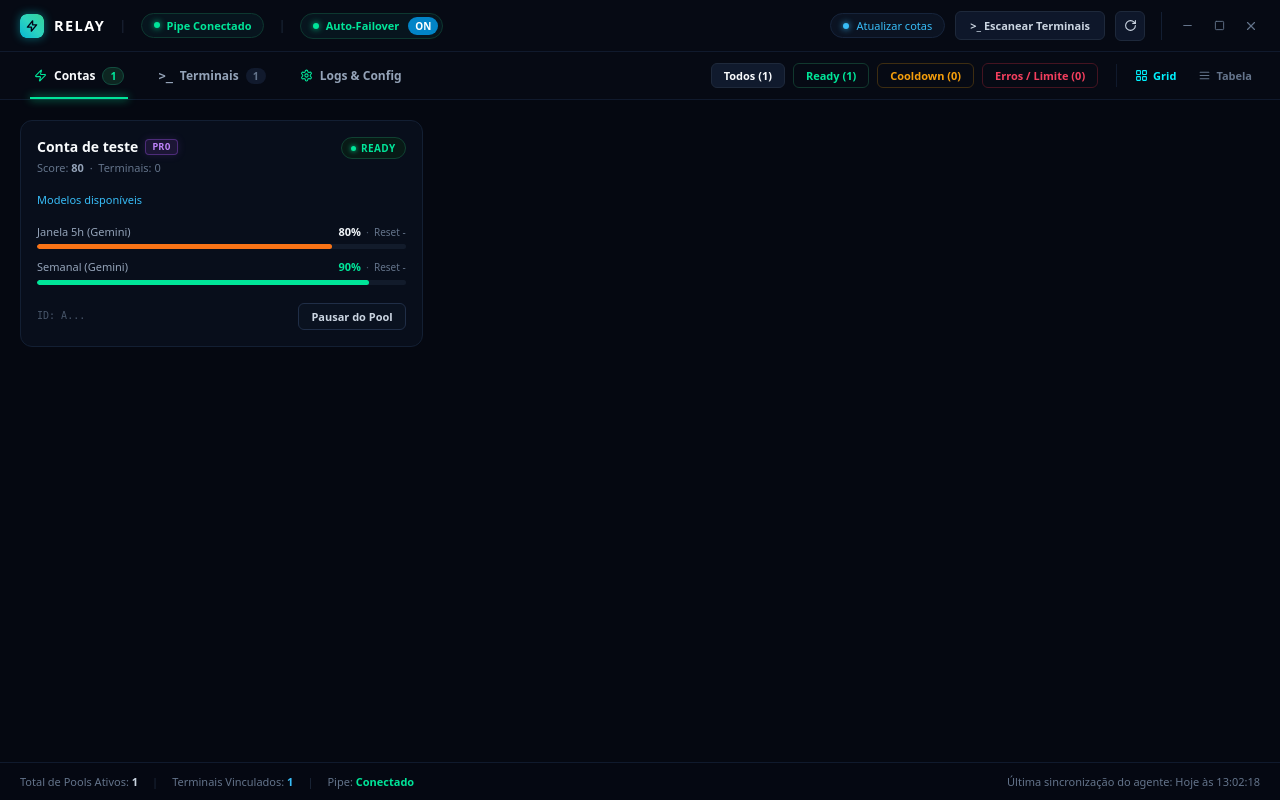
Test: carrega dados do Electron, navega, atualiza e libera inscrições ao sair
Expected: the text "Conta de teste" is shown, [37,137,138,157]
Click the button ">_ Escanear Terminais" at (1030, 26), box [955,11,1105,40]
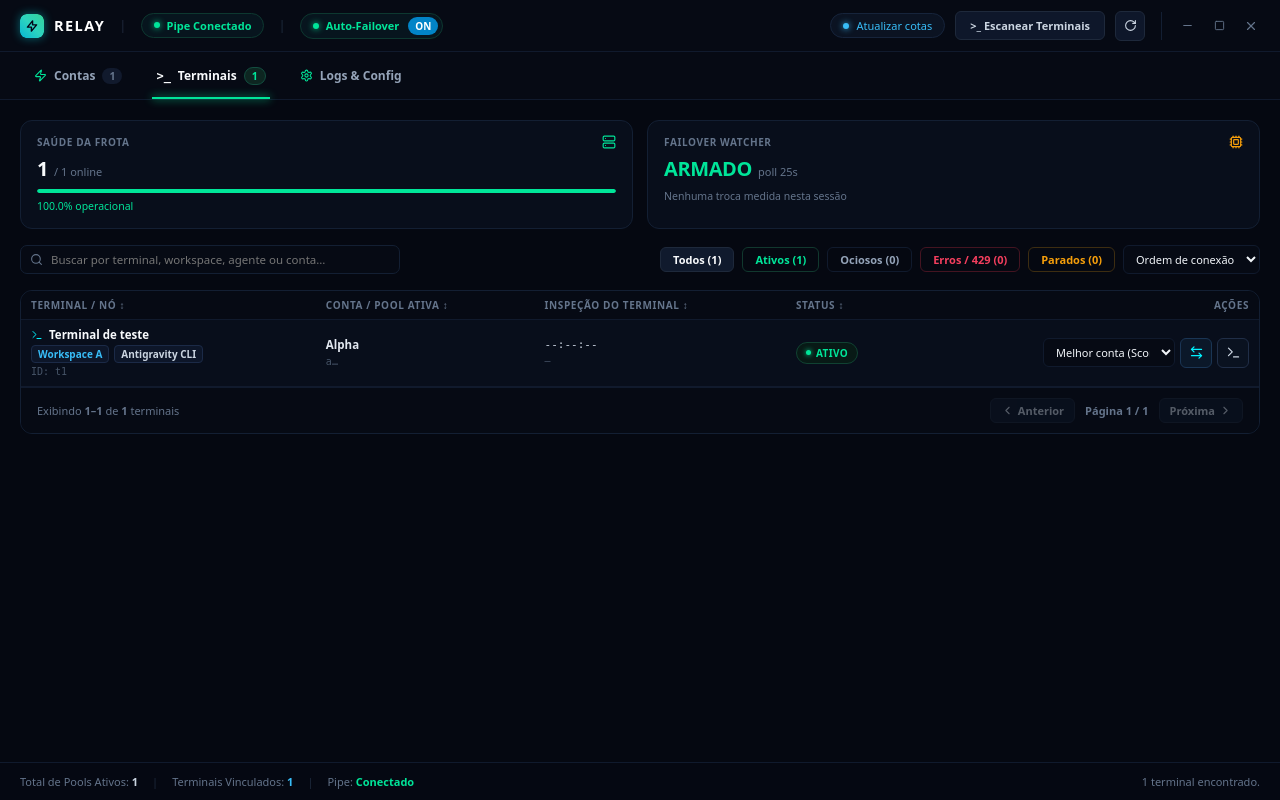
Result: the text "Terminal de teste" is shown at [49,327,149,343]
Result: the text "1 terminal encontrado." is shown at [1142,774,1260,789]
Click the button "Logs & Config" at (351, 76), box [286,52,416,99]
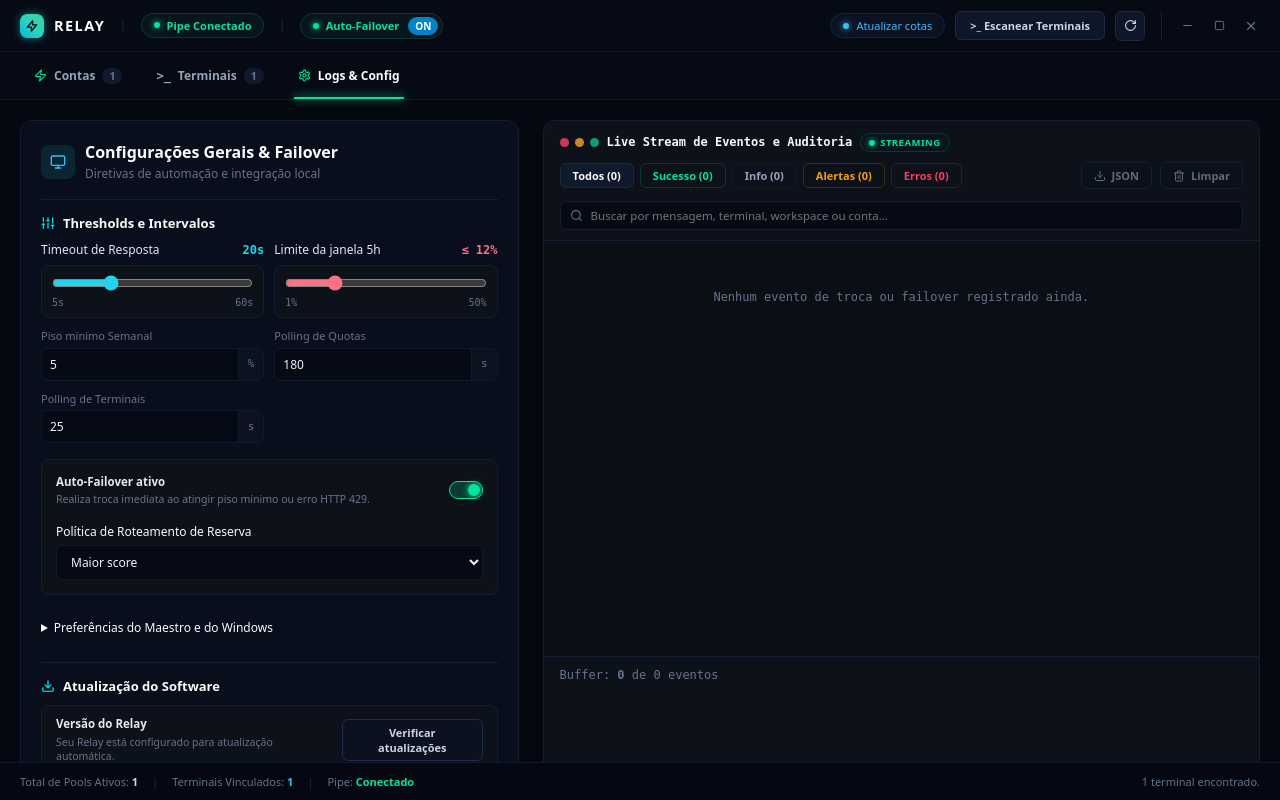
Result: the heading "Configurações Gerais & Failover" is shown at [85,141,338,163]
